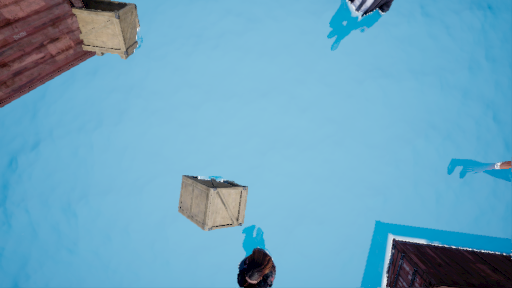person: (322, 1, 387, 58), (229, 227, 290, 287)
